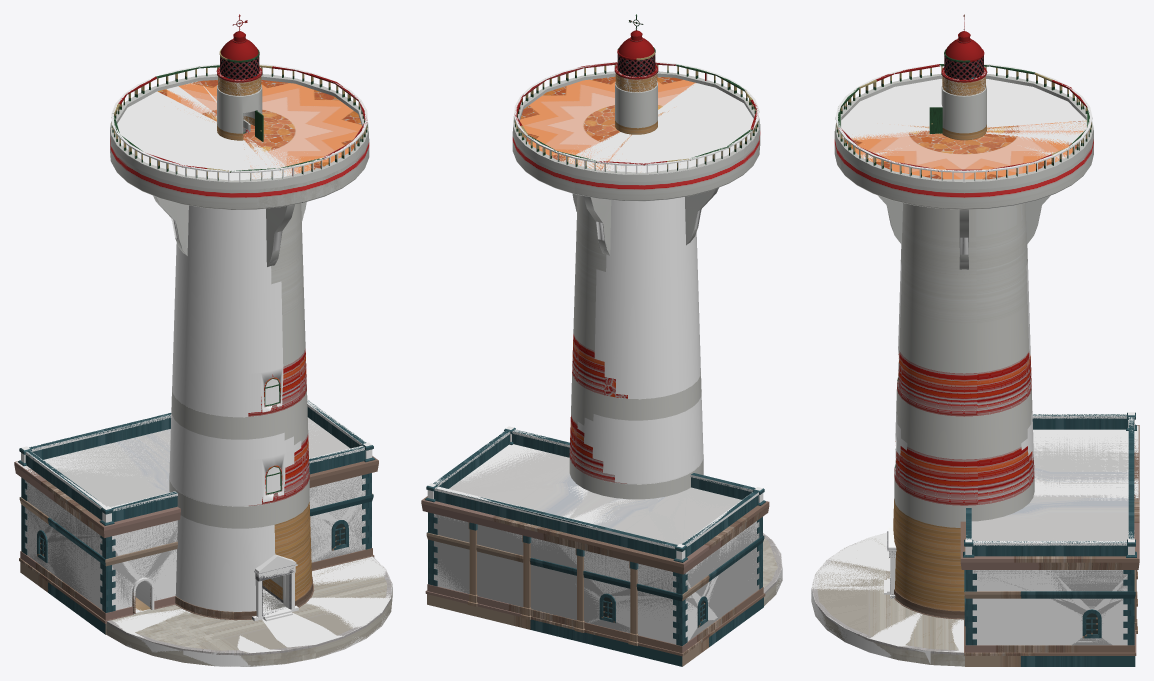
Rendered from objects_un_lighthouse01.gltf.
The picture shows the model from 3 angles, left to right: view 1: azimuth 30°, elevation 25°; view 2: azimuth 150°, elevation 25°; view 3: azimuth 270°, elevation 25°; orthographic projection. The views are drawn at different scales.
Visible parts, largest first — view 1: um_objects_un_lighthouse01_model_lod0Shape:objects_un_lighth (×9), um_objects_un_lighthouse01_model_lod1Shape:objects_un_lighth (×7), um_objects_un_lighthouse01_model_lod2Shape:objects_un_lighth (×6), nomerge_objects_un_lighthouse01_top_shape:objects_un_lightho (×3), nomerge_lighthouse01_obj_shape:objects_un_lighthouse01_obj01; view 2: um_objects_un_lighthouse01_model_lod0Shape:objects_un_lighth (×8), um_objects_un_lighthouse01_model_lod1Shape:objects_un_lighth (×8), um_objects_un_lighthouse01_model_lod2Shape:objects_un_lighth (×4), nomerge_objects_un_lighthouse01_top_shape:objects_un_lightho (×3), nomerge_lighthouse01_obj_shape:objects_un_lighthouse01_obj01; view 3: um_objects_un_lighthouse01_model_lod1Shape:objects_un_lighth (×8), um_objects_un_lighthouse01_model_lod0Shape:objects_un_lighth (×8), um_objects_un_lighthouse01_model_lod2Shape:objects_un_lighth (×5), nomerge_objects_un_lighthouse01_top_shape:objects_un_lightho (×3), nomerge_lighthouse01_obj_shape:objects_un_lighthouse01_obj01.
Boxes of the visible parts, bbox=[...] form: um_objects_un_lighthouse01_model_lod0Shape:objects_un_lighth (×9): bbox=[14, 22, 392, 666]; um_objects_un_lighthouse01_model_lod1Shape:objects_un_lighth (×7): bbox=[27, 74, 386, 649]; um_objects_un_lighthouse01_model_lod2Shape:objects_un_lighth (×6): bbox=[14, 65, 391, 662]; nomerge_objects_un_lighthouse01_top_shape:objects_un_lightho (×3): bbox=[216, 14, 263, 141]; nomerge_lighthouse01_obj_shape:objects_un_lighthouse01_obj01: bbox=[220, 56, 259, 79]; um_objects_un_lighthouse01_model_lod0Shape:objects_un_lighth (×8): bbox=[421, 21, 782, 666]; um_objects_un_lighthouse01_model_lod1Shape:objects_un_lighth (×8): bbox=[422, 71, 768, 652]; um_objects_un_lighthouse01_model_lod2Shape:objects_un_lighth (×4): bbox=[421, 62, 769, 624]; nomerge_objects_un_lighthouse01_top_shape:objects_un_lightho (×3): bbox=[614, 14, 658, 134]; nomerge_lighthouse01_obj_shape:objects_un_lighthouse01_obj01: bbox=[617, 54, 655, 76]; um_objects_un_lighthouse01_model_lod1Shape:objects_un_lighth (×8): bbox=[817, 74, 1139, 652]; um_objects_un_lighthouse01_model_lod0Shape:objects_un_lighth (×8): bbox=[811, 64, 1139, 666]; um_objects_un_lighthouse01_model_lod2Shape:objects_un_lighth (×5): bbox=[817, 64, 1139, 665]; nomerge_objects_un_lighthouse01_top_shape:objects_un_lightho (×3): bbox=[929, 14, 987, 140]; nomerge_lighthouse01_obj_shape:objects_un_lighthouse01_obj01: bbox=[944, 55, 983, 79].
Size of what is drawn, in the model's own units: 24.87 by 50.89 by 25.75.
19 materials, 15 textured.
